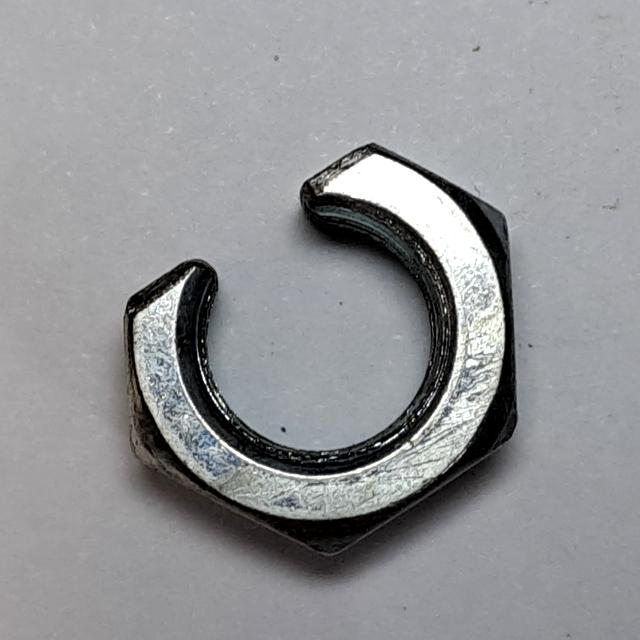Fracture: (100, 130, 545, 578)
